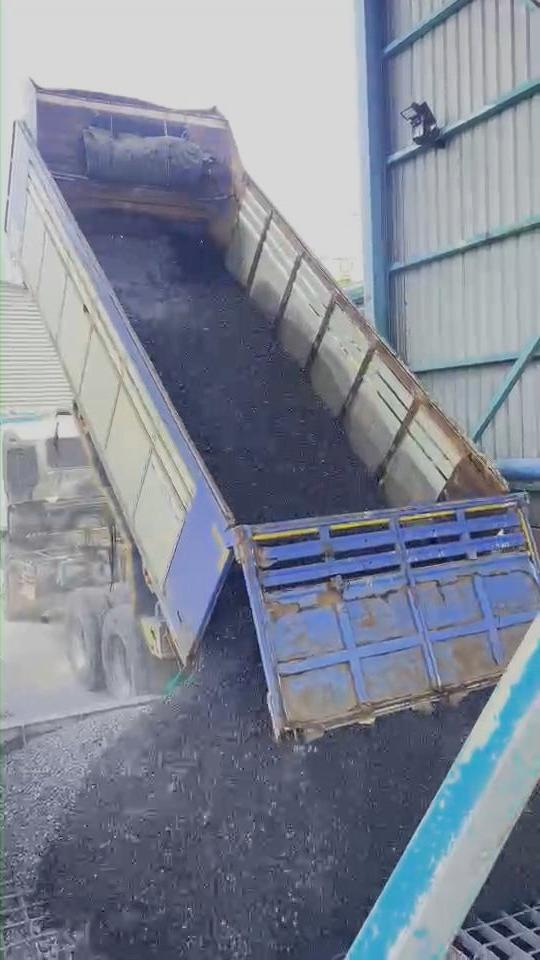gravel: (38, 571, 485, 959), (83, 214, 383, 521), (3, 708, 144, 889), (480, 796, 540, 910)
